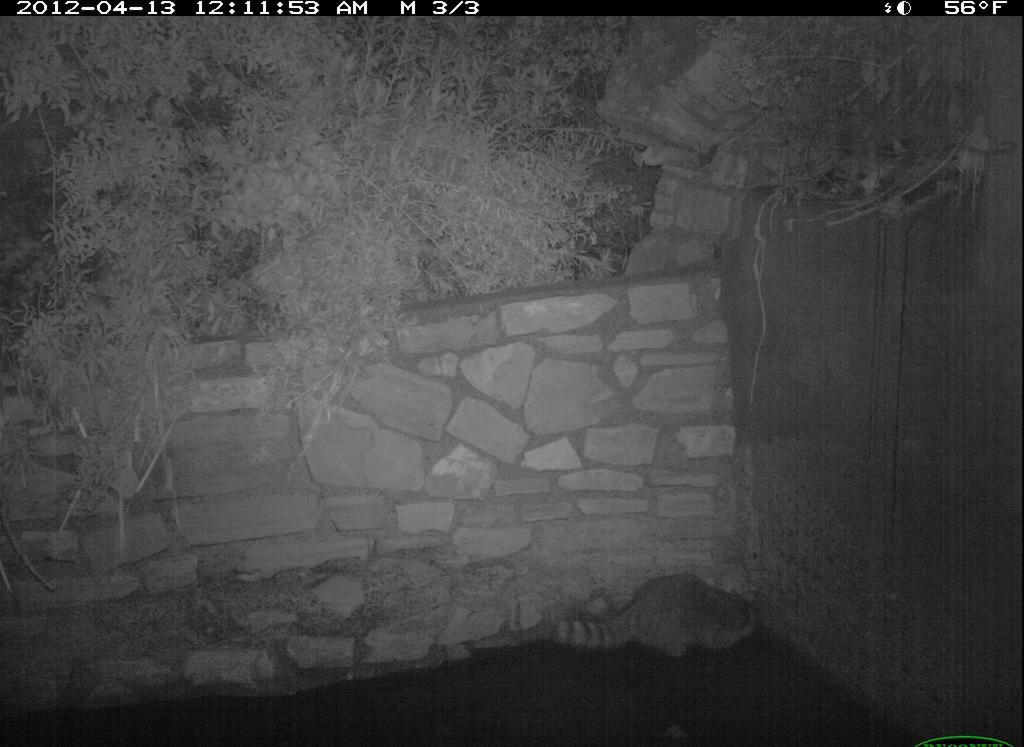raccoon: (541, 564, 781, 680)
